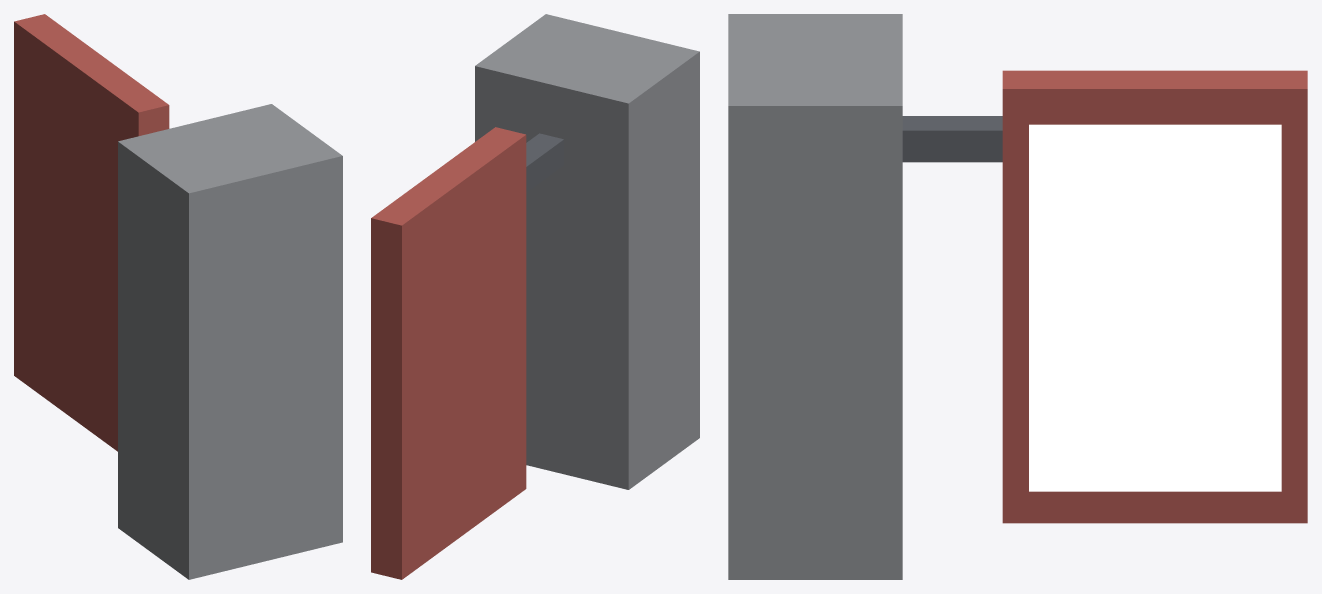
Rendered from prop_kanban_sode_red.glb.
The picture shows the model from 3 angles, left to right: view 1: azimuth 30°, elevation 25°; view 2: azimuth 150°, elevation 25°; view 3: azimuth 270°, elevation 25°; orthographic projection. The views are drawn at different scales.
Parts seen in each view (by area): view 1: kanban_sode_red; view 2: kanban_sode_red; view 3: kanban_sode_red.
Boxes of the visible parts, bbox=[...] form: kanban_sode_red: bbox=[14, 14, 342, 579]; kanban_sode_red: bbox=[371, 14, 699, 579]; kanban_sode_red: bbox=[728, 14, 1307, 579].
Bounding box in the file's own units: 0.5 × 1.2 × 1.33.
